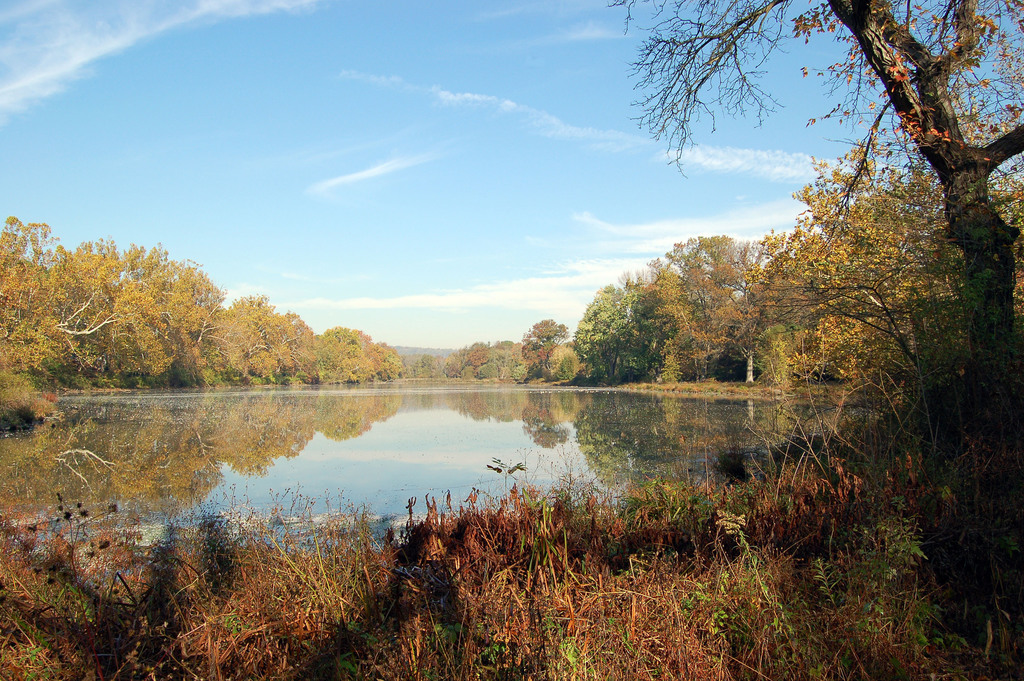Tree: (0, 165, 1023, 434), (609, 0, 1021, 330)
